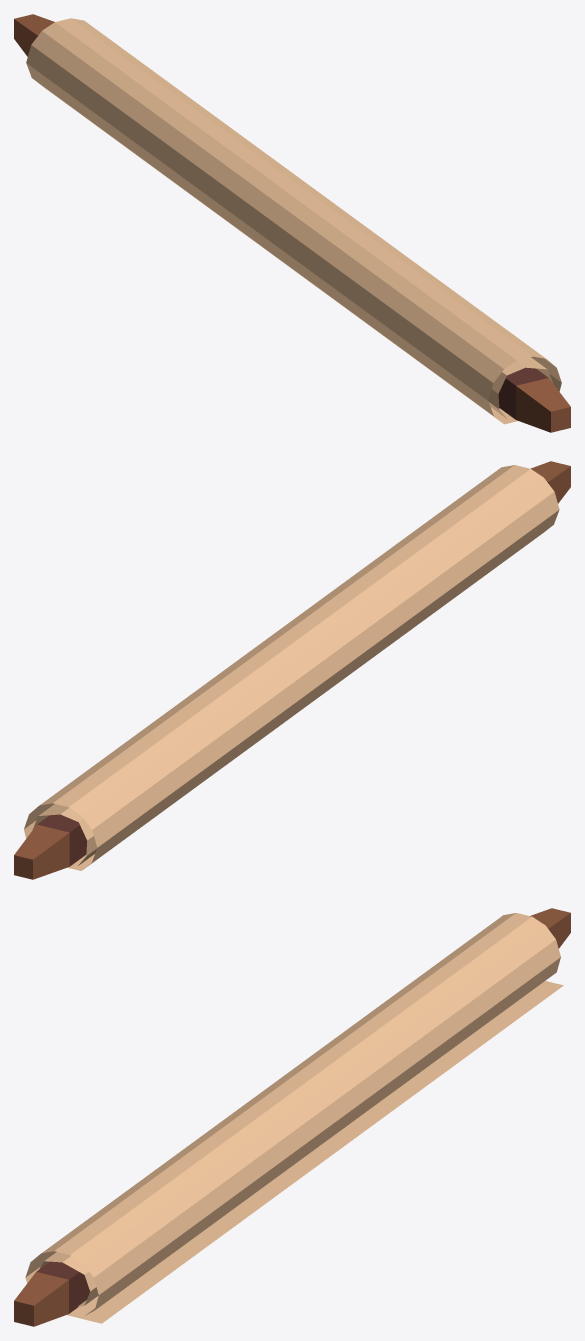
File: scroll_handle_roll.fbx
3 renders of one model, top to bottom at view 1: azimuth 30°, elevation 25°; view 2: azimuth 150°, elevation 25°; view 3: azimuth 330°, elevation 25°, orthographic.
Parts seen in each view (by area): view 1: Cube.006; view 2: Cube.006; view 3: Cube.006.
Part boxes in pixels (bbox=[...]): Cube.006: bbox=[14, 14, 570, 432]; Cube.006: bbox=[14, 461, 570, 879]; Cube.006: bbox=[14, 908, 570, 1326].
Size of the model in its own units: 14.44 by 11 by 176.
